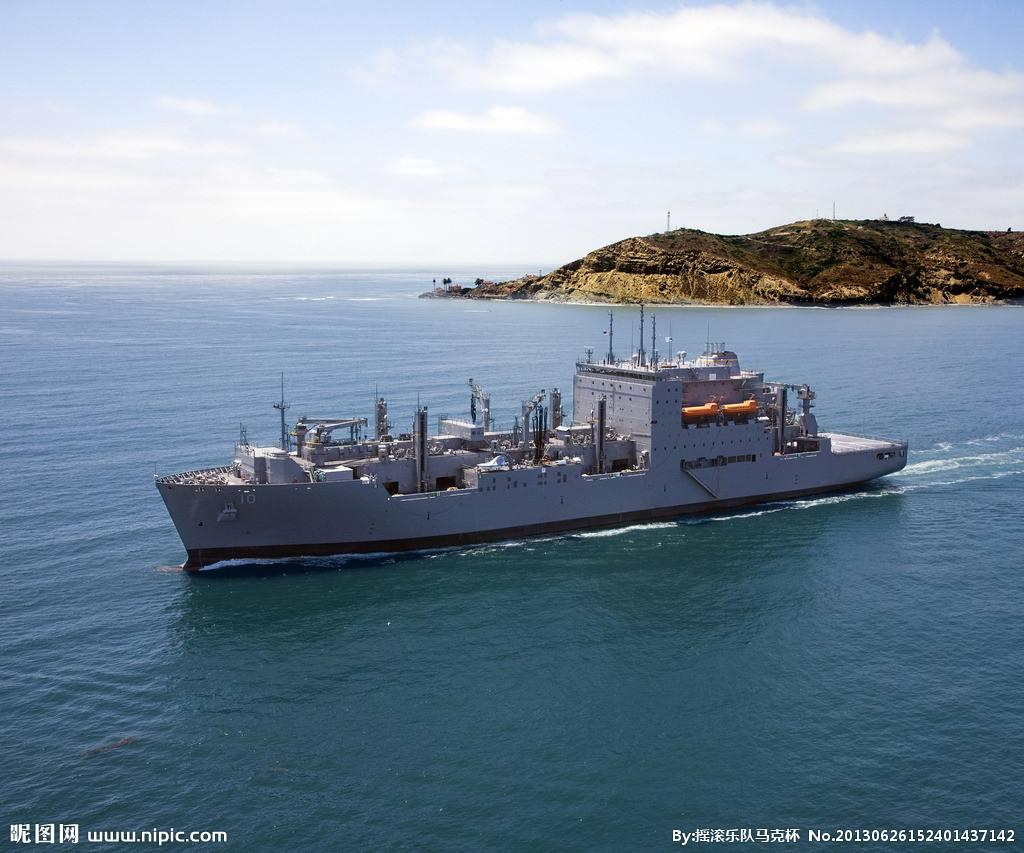warship: (151, 313, 927, 575)
